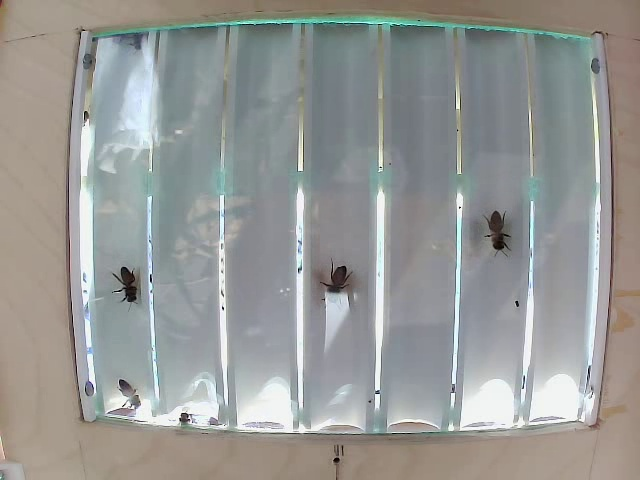bee: (312, 261, 364, 315), (120, 261, 158, 311), (485, 207, 521, 252), (103, 375, 148, 410)
